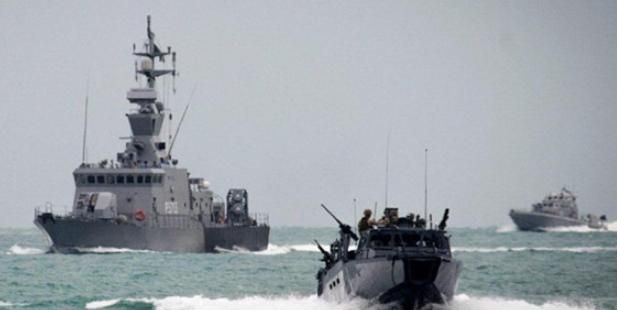otherboat: (310, 188, 469, 301)
warship: (25, 21, 277, 252), (508, 181, 617, 236)
